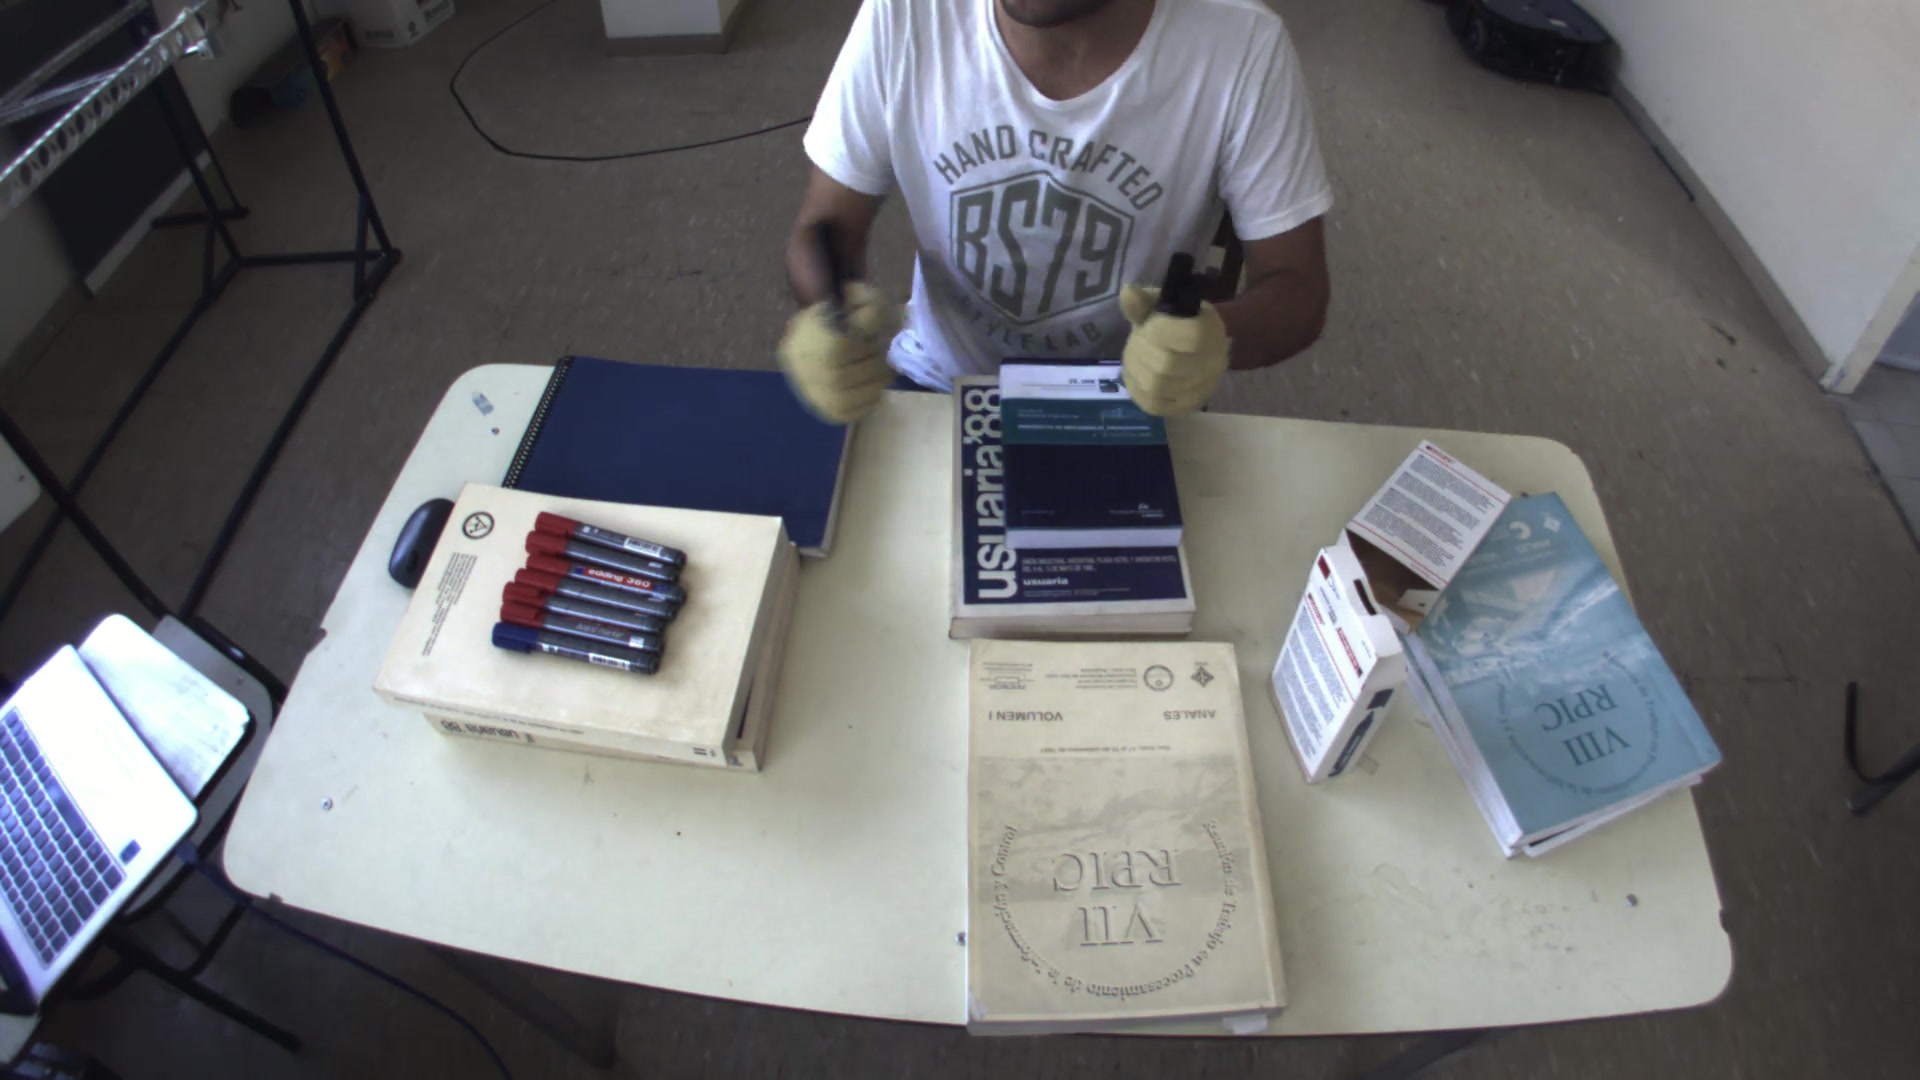hand: (1104, 280, 1249, 423), (771, 286, 898, 422)
